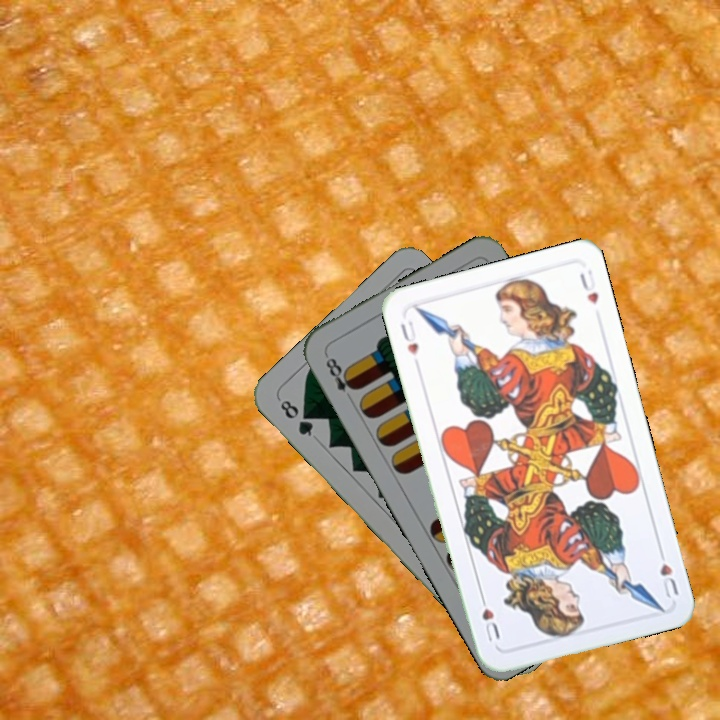E8: (321, 350, 360, 395)
G8: (276, 395, 316, 439)
HU: (653, 543, 681, 601), (396, 316, 421, 358)
